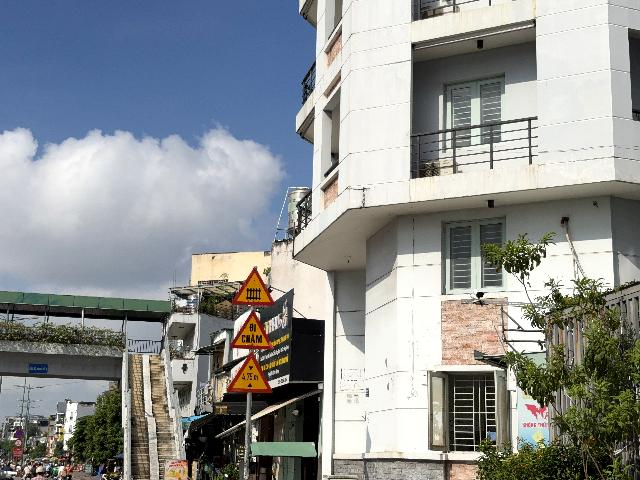chieu-cao-tinh-khong-thuc-te: (227, 352, 273, 394)
di-cham: (230, 310, 274, 350)
noi-giao-nhau-voi-duong-sat-co-rao-chan: (231, 267, 275, 306)
